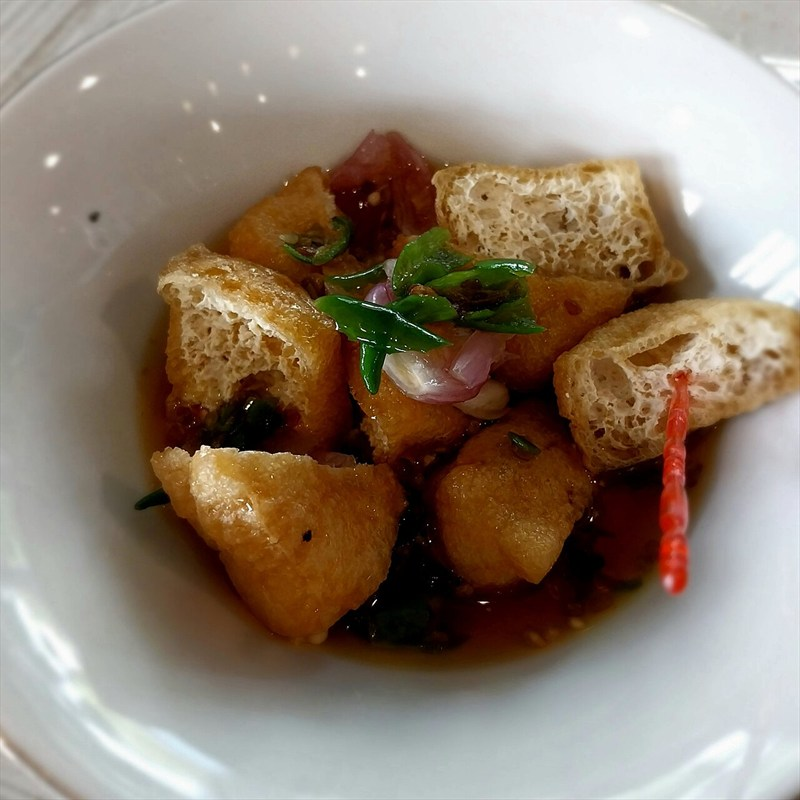Tahu Goreng: (142, 165, 703, 655)
